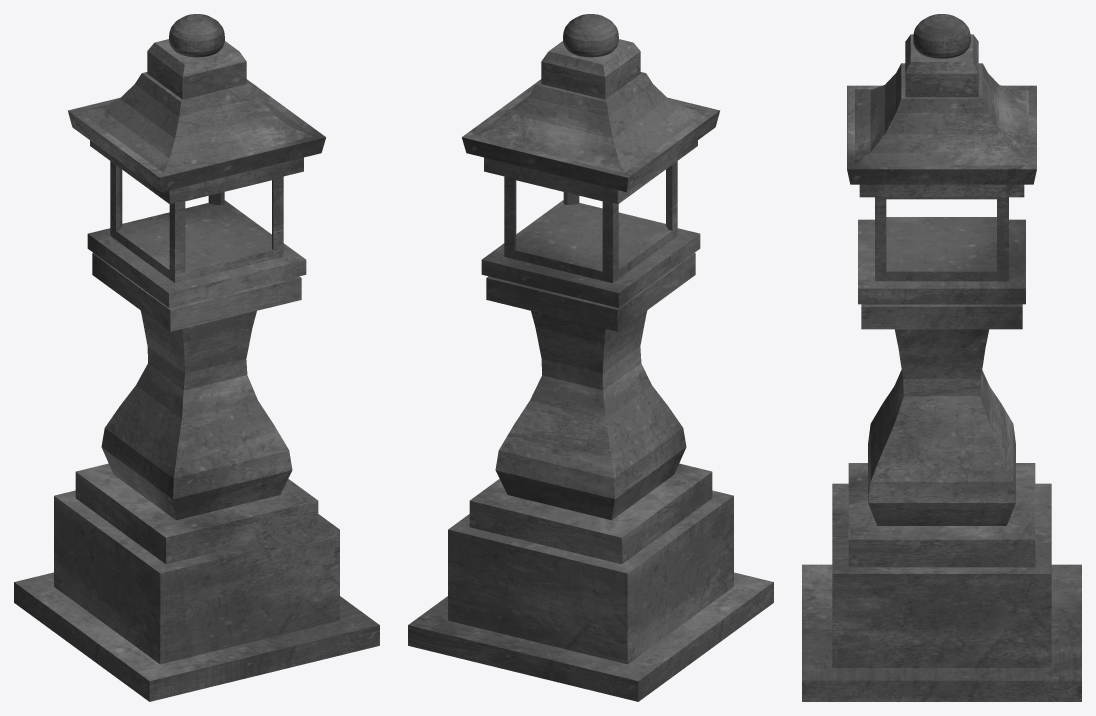
The model's file is tourou.fbx.
The picture shows the model from 3 angles, left to right: view 1: azimuth 30°, elevation 25°; view 2: azimuth 150°, elevation 25°; view 3: azimuth 270°, elevation 25°; orthographic projection. The views are drawn at different scales.
Parts seen in each view (by area): view 1: pCube1; view 2: pCube1; view 3: pCube1.
Part boxes in pixels (box(x1,y1,x2,y2)): pCube1: box(14, 14, 379, 701); pCube1: box(408, 14, 773, 701); pCube1: box(802, 14, 1081, 701).
Bounding box in the file's own units: 34.09 × 85.71 × 34.74.
